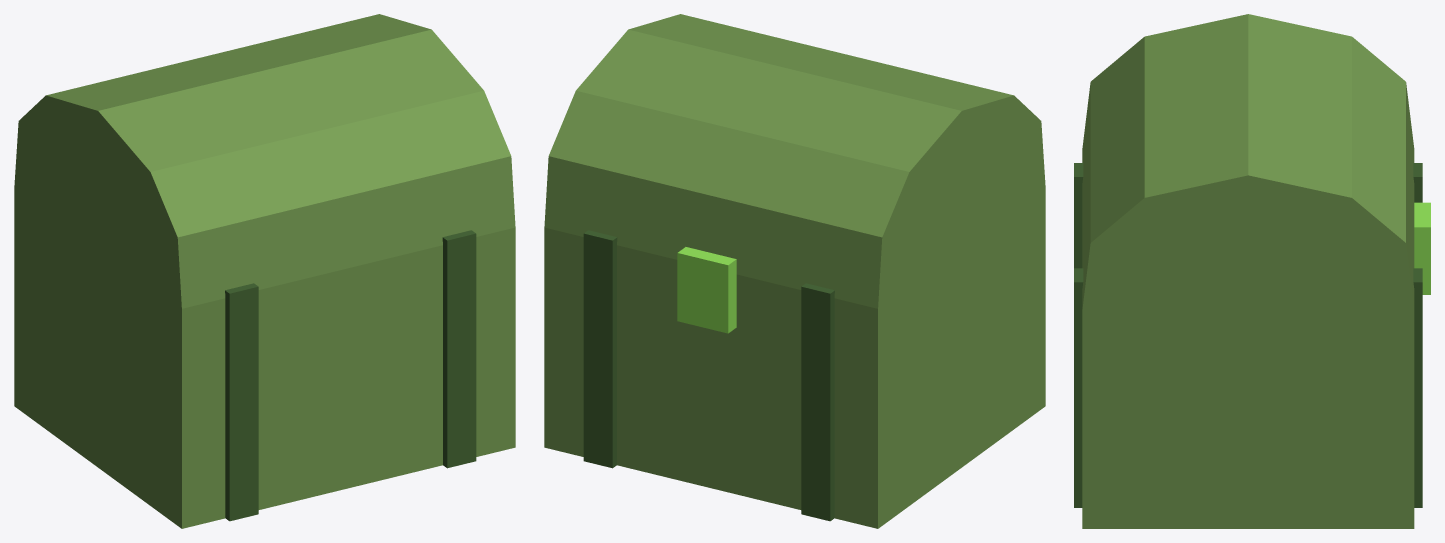
Rendered from jungle_chest_v0.glb.
3 views of the same model, side by side, from view 1: azimuth 30°, elevation 25°; view 2: azimuth 150°, elevation 25°; view 3: azimuth 270°, elevation 25° (orthographic).
Visible parts, largest first — view 1: jungle_chest_v0; view 2: jungle_chest_v0; view 3: jungle_chest_v0.
Boxes of the visible parts, x1=… form: jungle_chest_v0: x1=14, y1=14, x2=515, y2=528; jungle_chest_v0: x1=544, y1=14, x2=1045, y2=528; jungle_chest_v0: x1=1074, y1=14, x2=1430, y2=528.
Bounding box in the file's own units: 0.92 × 0.94 × 0.86.
